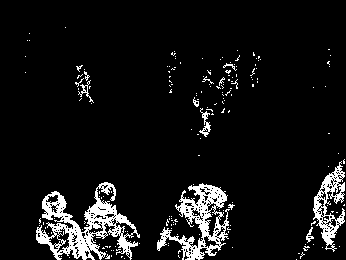person: (156, 177, 233, 260), (83, 179, 140, 260), (302, 154, 346, 251), (36, 188, 93, 260), (192, 73, 221, 136), (73, 63, 96, 107)
